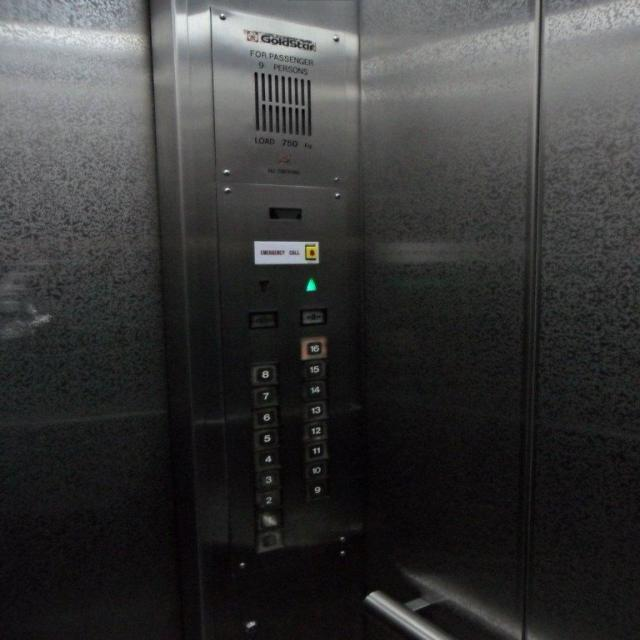1: (255, 508, 279, 530)
10: (304, 459, 327, 478)
11: (304, 441, 327, 460)
12: (302, 420, 326, 440)
13: (302, 400, 326, 419)
14: (301, 379, 327, 400)
15: (301, 359, 327, 378)
16: (299, 336, 327, 360)
2: (255, 488, 279, 508)
3: (256, 469, 280, 488)
4: (254, 448, 281, 470)
5: (253, 428, 279, 450)
6: (252, 406, 278, 428)
7: (252, 384, 278, 407)
8: (252, 363, 276, 385)
9: (304, 478, 328, 501)
alarm: (304, 242, 318, 260)
blur: (248, 307, 278, 329), (256, 528, 281, 553)
down: (256, 278, 272, 294)
keyhole: (238, 616, 264, 636)
open: (300, 307, 328, 325)
up: (302, 275, 320, 293)
